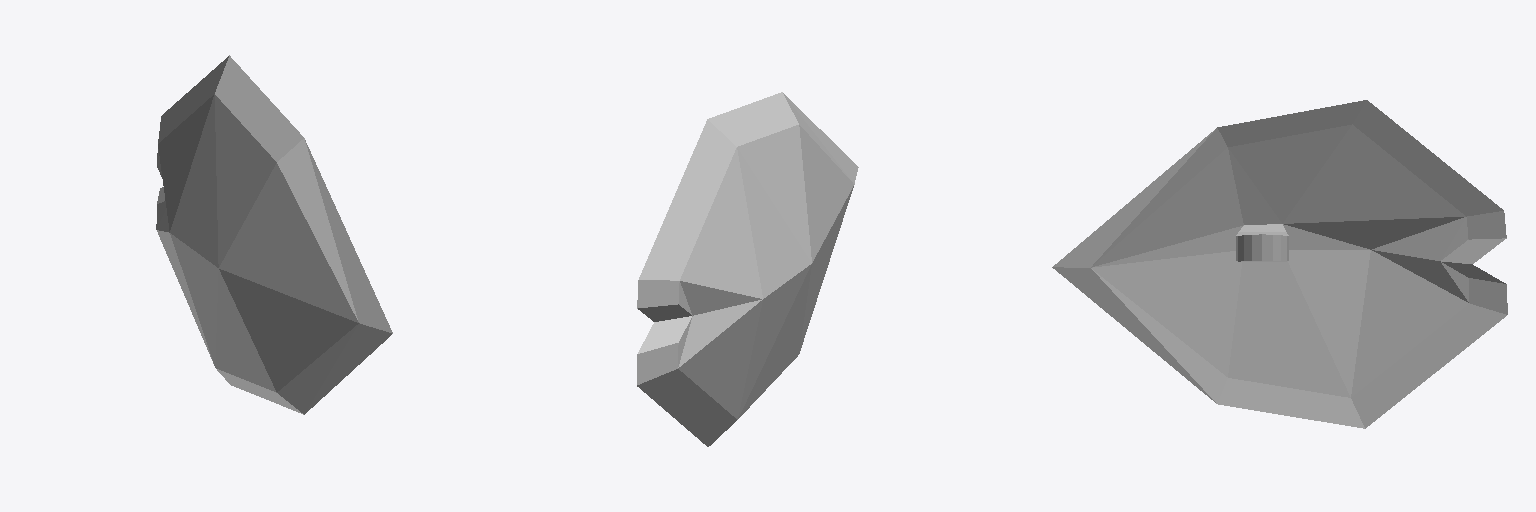
Rendered from wing_right.obj.
3 views of the same model, side by side, from view 1: azimuth 30°, elevation 25°; view 2: azimuth 150°, elevation 25°; view 3: azimuth 270°, elevation 25° (orthographic).
Visible parts, largest first — view 1: Mesh; view 2: Mesh; view 3: Mesh.
Boxes of the visible parts, x1,y1,x2,y2 form: Mesh: [156, 55, 392, 414]; Mesh: [637, 92, 858, 446]; Mesh: [1052, 100, 1507, 428].
Size of the model in its own units: 0.5524 by 2.13 by 2.68.